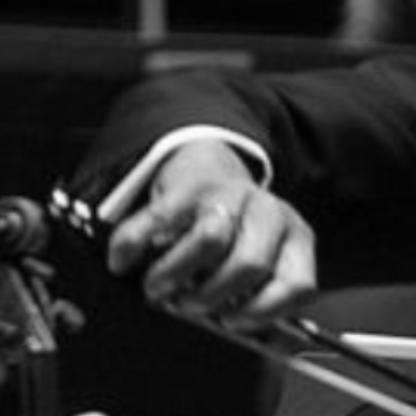good: (106, 172, 326, 335)
